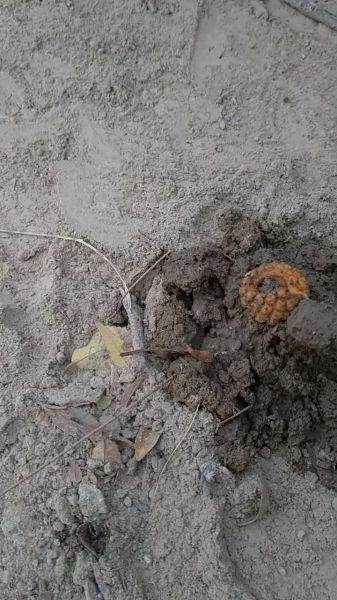eggs: (236, 258, 316, 324)
